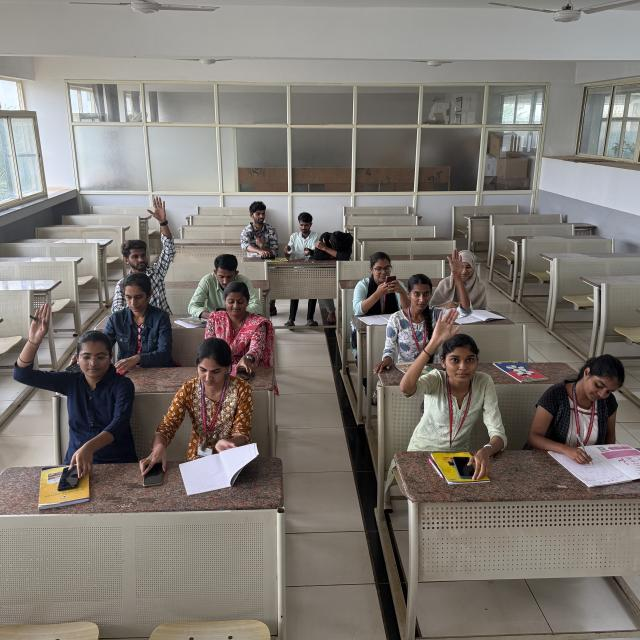Hand Rising: (13, 294, 139, 439), (401, 300, 502, 440), (388, 244, 471, 344), (109, 196, 183, 294)
Reading: (165, 341, 263, 488)
Sleeping: (303, 228, 360, 265)
Using Phone: (353, 248, 410, 320)
Writing: (526, 348, 638, 474)
